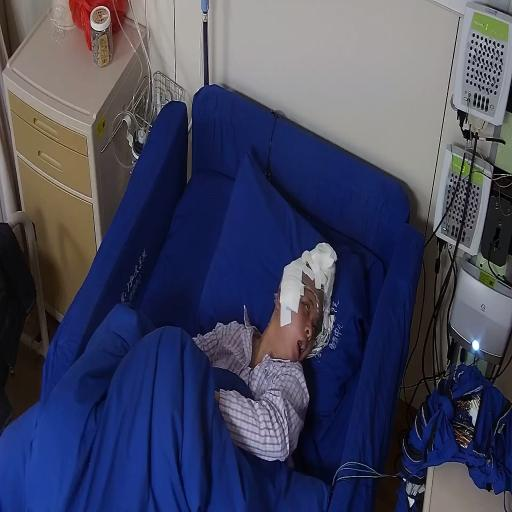Seizure: (270, 251, 326, 368)
